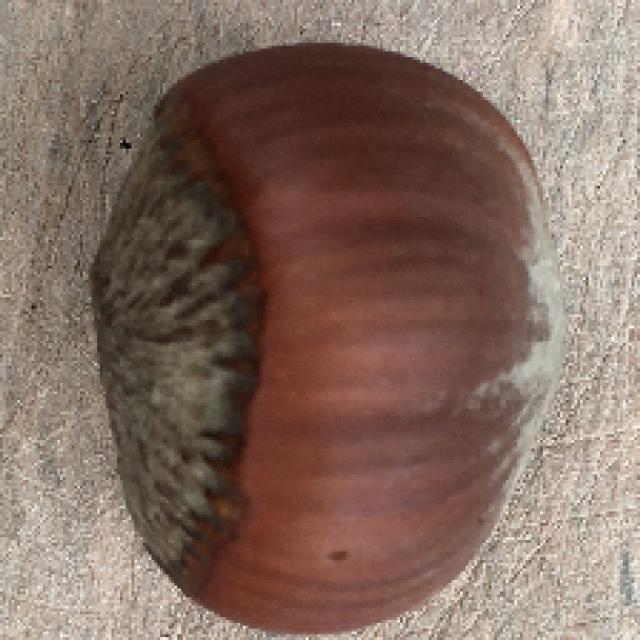DamagedHazelnut: (88, 38, 572, 637)
